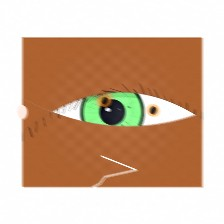foreign_body_visible: (85, 85, 124, 116)
